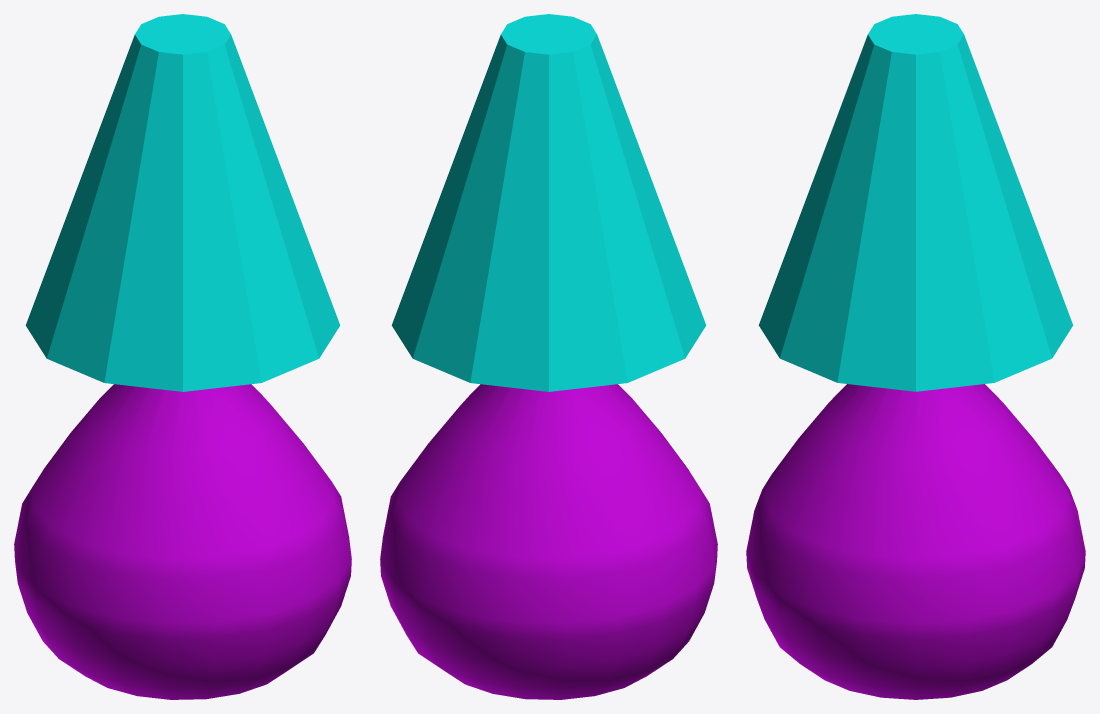
File: lampara_escritorio.fbx
3 renders of one model, left to right at view 1: azimuth 30°, elevation 25°; view 2: azimuth 150°, elevation 25°; view 3: azimuth 270°, elevation 25°, orthographic.
Parts seen in each view (by area): view 1: pCylinder3; view 2: pCylinder3; view 3: pCylinder3.
Boxes of the visible parts, box(x1,y1,x2,y2) form: pCylinder3: box(14, 14, 351, 699); pCylinder3: box(380, 14, 717, 699); pCylinder3: box(746, 14, 1085, 699).
Size of the model in its own units: 19.34 by 38.86 by 19.34.
